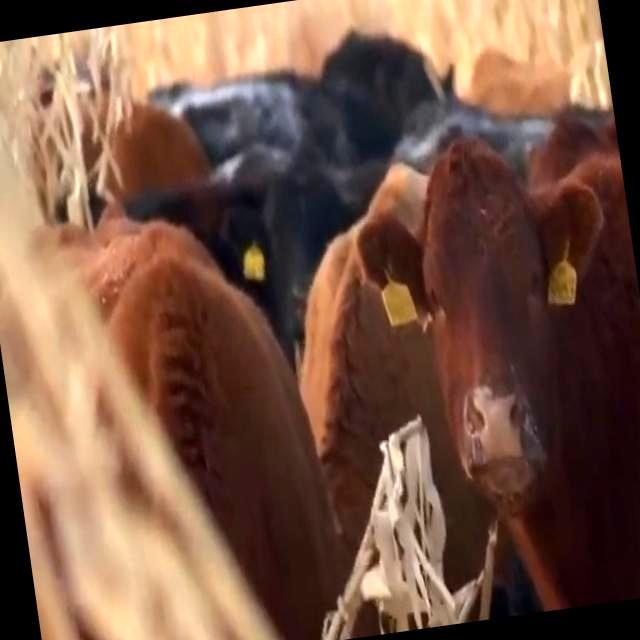COW: (358, 114, 640, 605)
